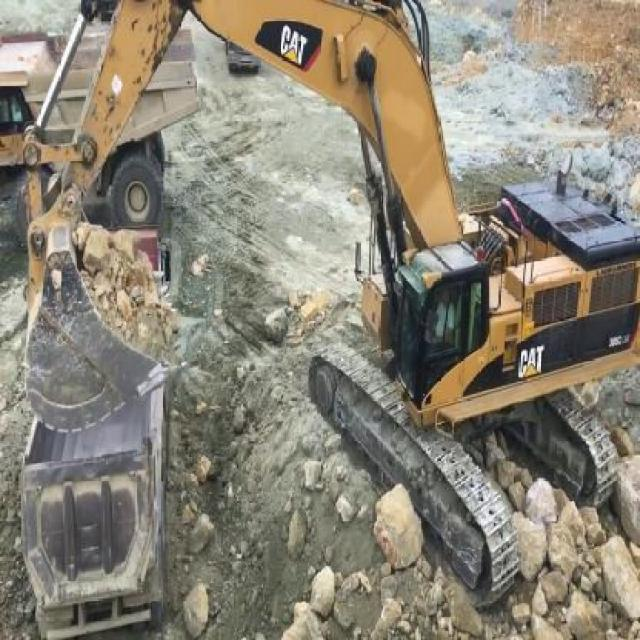Dump Truck: (3, 34, 195, 218), (21, 396, 165, 638)
Excavator: (21, 4, 639, 608)
